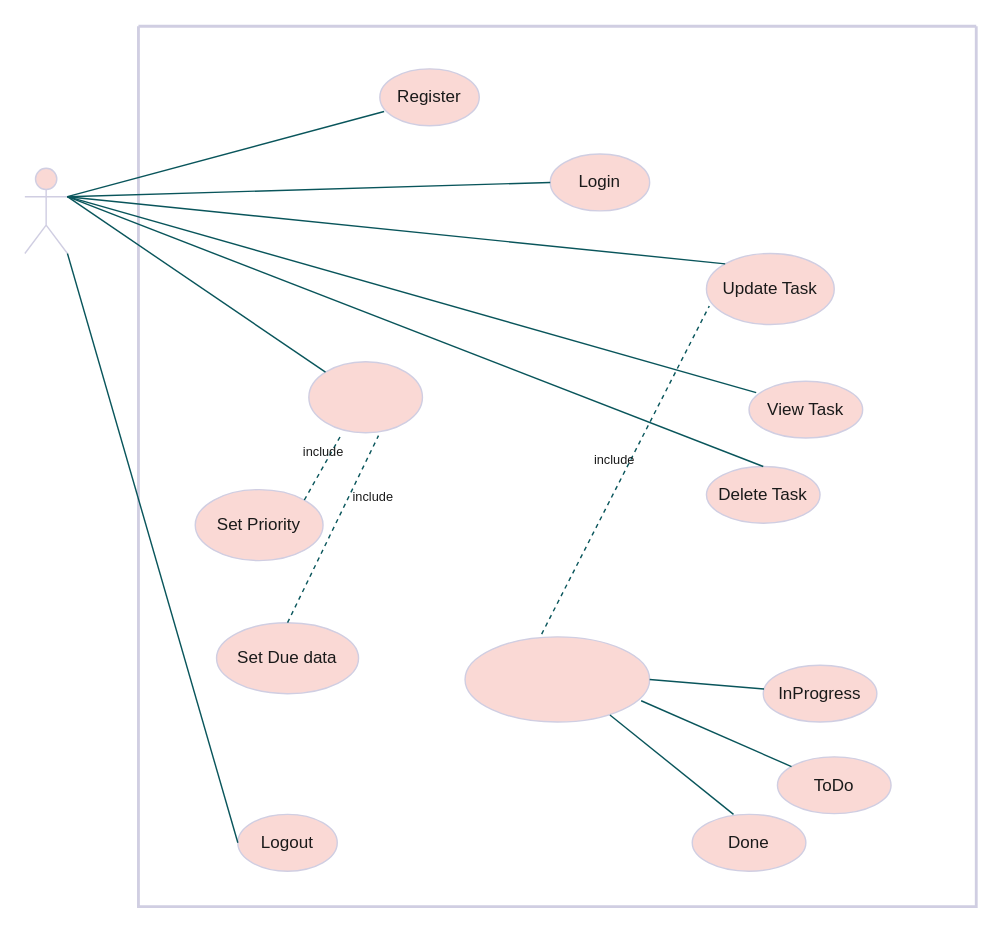
This 1003x932 diagram has some shape labels left out. The centre of each missing label's shape, as x and y in pixels:
"Change Task Status" belongs at (x=557, y=678).
"Create Task" belongs at (x=364, y=396).
"user" belongs at (x=45, y=210).
